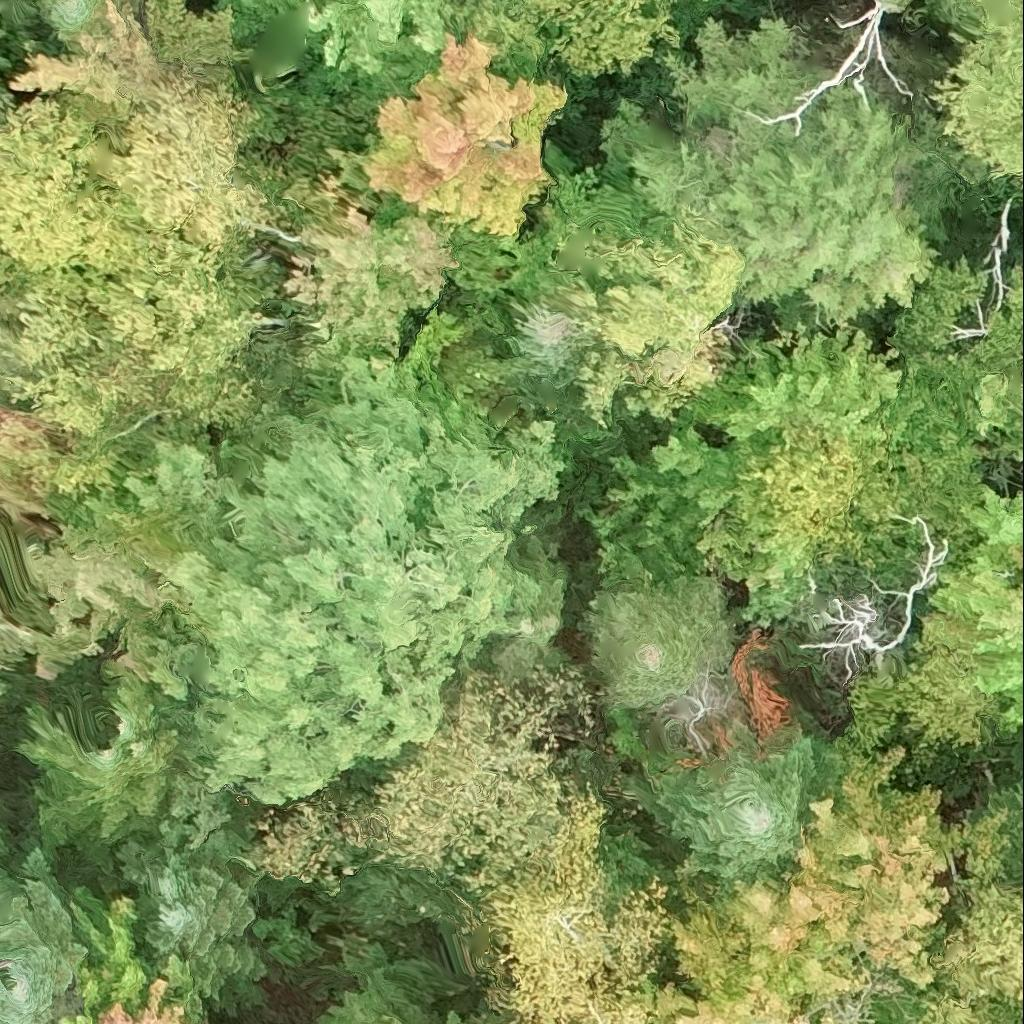crown: (607, 328, 994, 625), (643, 18, 939, 323), (717, 746, 962, 991), (887, 258, 1023, 466), (640, 908, 881, 1023), (671, 729, 849, 879), (921, 491, 1023, 730), (928, 801, 1023, 1023), (853, 987, 999, 1023)
